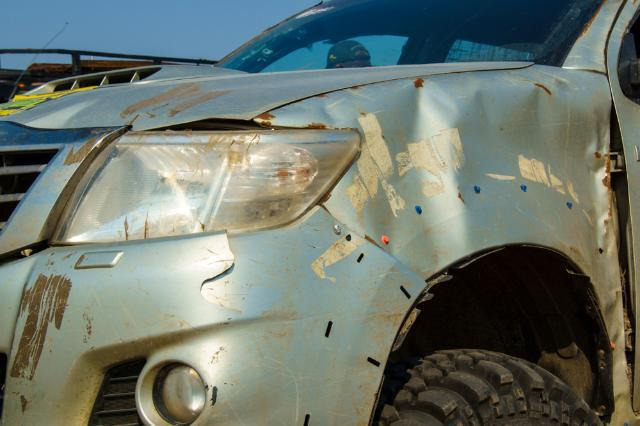crack: (198, 231, 242, 314)
dent: (302, 79, 625, 375)
